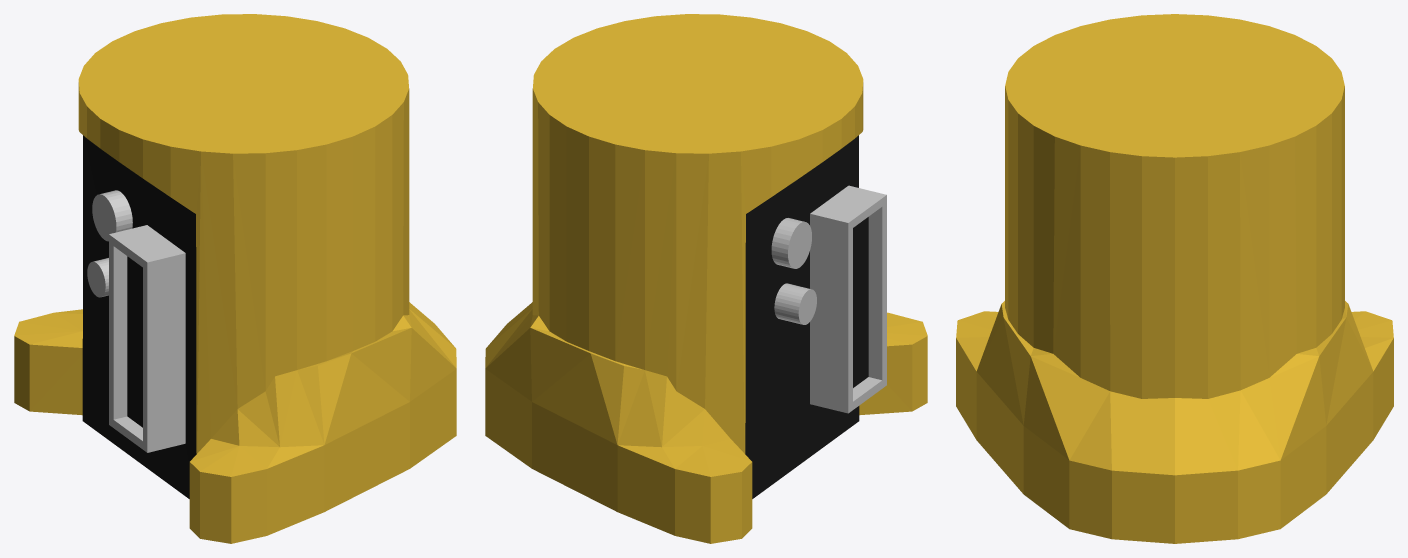
The picture shows the model from 3 angles, left to right: view 1: azimuth 30°, elevation 25°; view 2: azimuth 150°, elevation 25°; view 3: azimuth 270°, elevation 25°; orthographic projection. The views are drawn at different scales.
Visible parts, largest first — view 1: Base_mesh; view 2: Base_mesh; view 3: Base_mesh.
Boxes of the visible parts, <box> form: Base_mesh: <box>14,14,456,543</box>; Base_mesh: <box>485,14,927,543</box>; Base_mesh: <box>956,14,1393,543</box>.
Bounding box in the file's own units: 0.2025 × 0.2238 × 0.2045.
